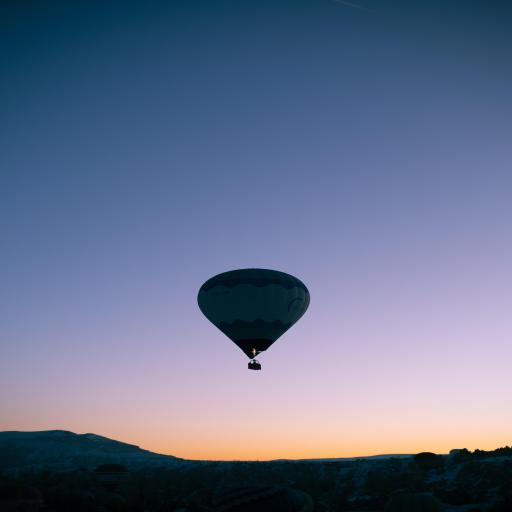hot air ballon: (197, 268, 310, 371)
